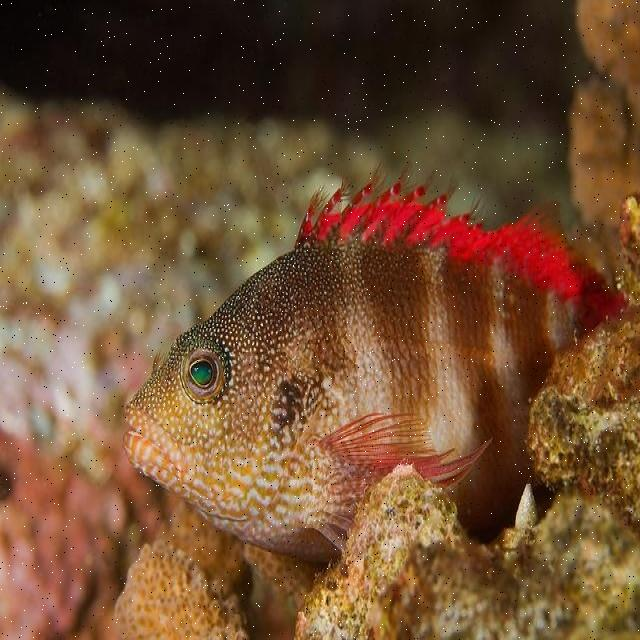fish: (124, 159, 621, 566)
